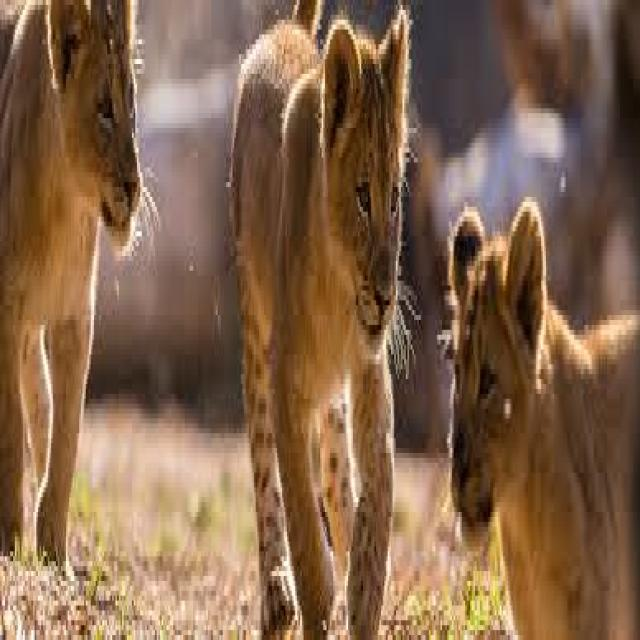Lion: (231, 14, 409, 635), (445, 202, 638, 635), (0, 0, 140, 562)
